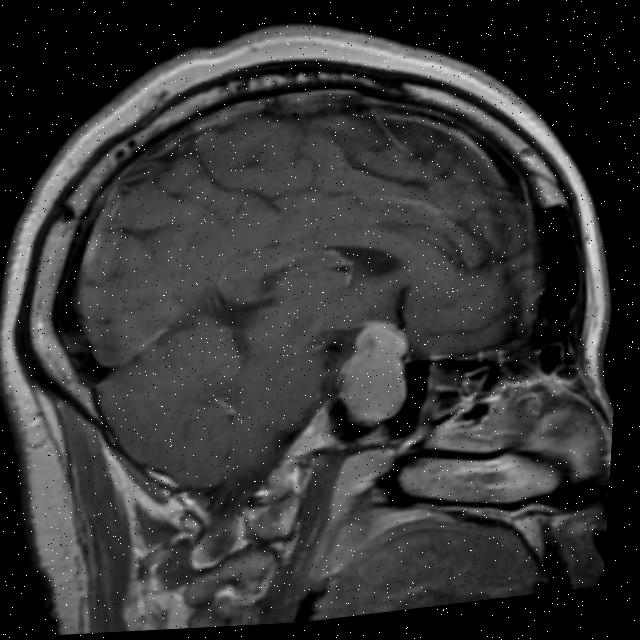Pituitary: (333, 317, 414, 425)
